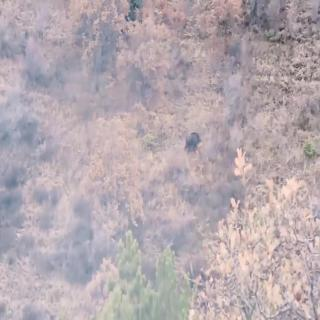Pig: (186, 119, 200, 156)
